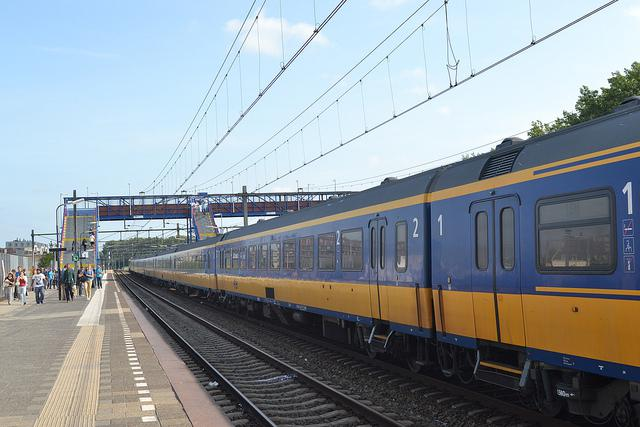Train: (128, 97, 640, 425)
